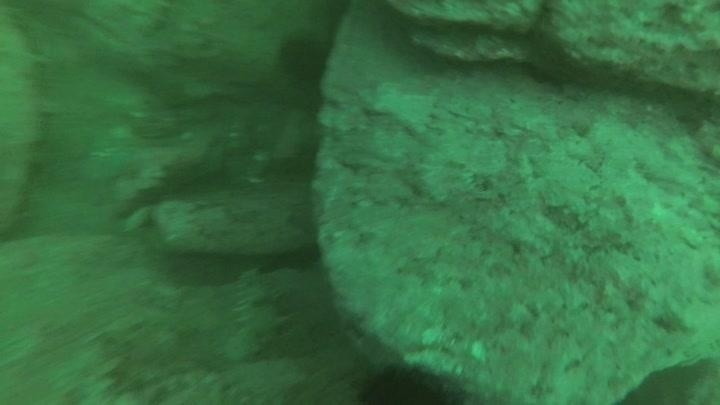echinus: (350, 358, 463, 404), (276, 31, 333, 84)
holothurian: (224, 266, 291, 364)
